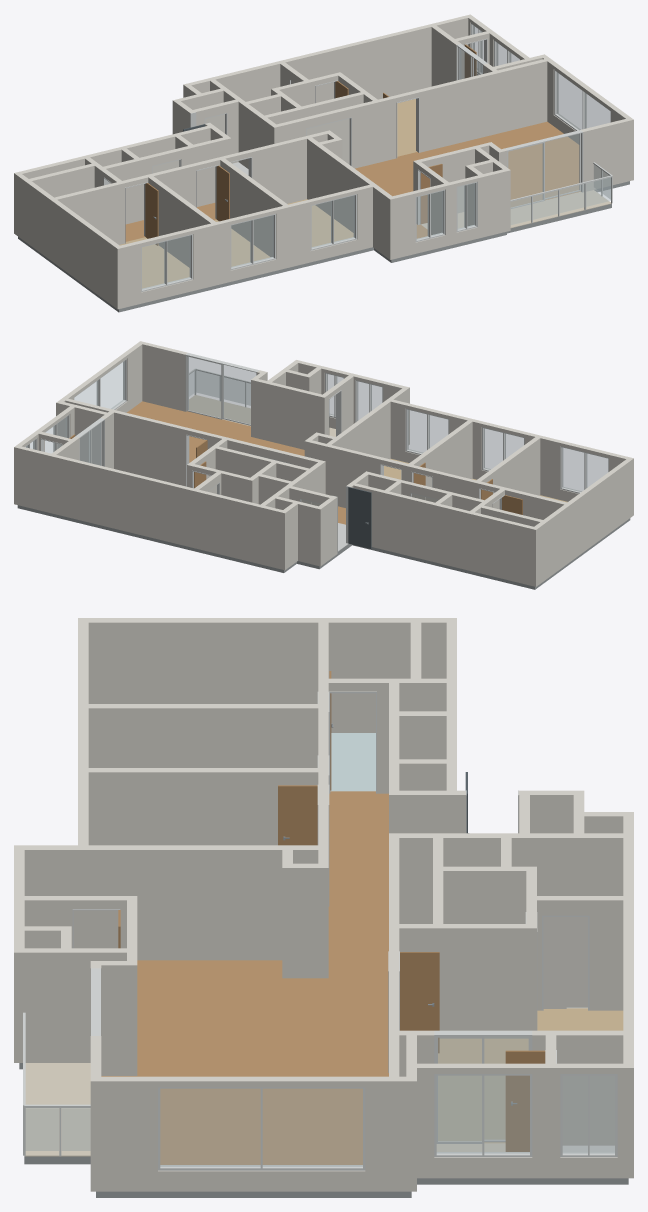
The picture shows the model from 3 angles, top to bottom: view 1: azimuth 30°, elevation 25°; view 2: azimuth 150°, elevation 25°; view 3: azimuth 270°, elevation 25°; orthographic projection. The views are drawn at different scales.
Visible parts, largest first — view 1: wall_32, wall_14, wall_6, floor_living_kitchen_corridor, wall_15, wall_1, wall_13, wall_18, wall_21, wall_10, wall_17, railing_1 (+37 smaller); view 2: wall_6, wall_2, wall_32, wall_1, wall_15, wall_14, wall_12, wall_10, floor_living_kitchen_corridor, wall_18, floor_structural_slab, wall_17 (+34 smaller); view 3: floor_living_kitchen_corridor, wall_1, wall_18, window_4, wall_9, wall_17, wall_16, wall_25, wall_7, wall_31, window_6, floor_master_bedroom_and_dressing (+45 smaller).
Part boxes in pixels (left/top/right/bottom): wall_32: left=271, top=58, right=551, bottom=168; wall_14: left=115, top=183, right=377, bottom=309; wall_6: left=183, top=14, right=472, bottom=102; floor_living_kitchen_corridor: left=125, top=121, right=580, bottom=241; wall_15: left=49, top=130, right=332, bottom=260; wall_1: left=17, top=174, right=119, bottom=306; wall_13: left=387, top=168, right=510, bottom=259; wall_18: left=307, top=137, right=391, bottom=257; wall_21: left=98, top=136, right=231, bottom=224; wall_10: left=496, top=117, right=633, bottom=191; wall_17: left=220, top=159, right=287, bottom=256; railing_1: left=510, top=175, right=612, bottom=224; wall_6: left=14, top=445, right=287, bottom=570; wall_2: left=349, top=482, right=538, bottom=586; wall_32: left=61, top=397, right=325, bottom=494; wall_1: left=534, top=459, right=631, bottom=584; wall_15: left=304, top=439, right=571, bottom=562; wall_14: left=386, top=398, right=633, bottom=516; wall_12: left=251, top=378, right=327, bottom=449; wall_10: left=138, top=341, right=267, bottom=411; floor_living_kitchen_corridor: left=127, top=401, right=345, bottom=524; wall_18: left=327, top=388, right=406, bottom=459; floor_structural_slab: left=17, top=505, right=630, bottom=589; wall_17: left=409, top=420, right=472, bottom=487; floor_living_kitchen_corridor: left=101, top=791, right=388, bottom=1164; wall_1: left=88, top=618, right=446, bottom=732; wall_18: left=24, top=845, right=318, bottom=960; window_4: left=158, top=1087, right=365, bottom=1170; wall_9: left=101, top=1076, right=406, bottom=1191; wall_17: left=88, top=768, right=318, bottom=845; wall_16: left=88, top=704, right=318, bottom=767; wall_25: left=399, top=833, right=623, bottom=923; wall_7: left=417, top=1063, right=623, bottom=1178; wall_31: left=399, top=924, right=526, bottom=1038; window_6: left=434, top=1074, right=532, bottom=1157; floor_master_bedroom_and_dressing: left=438, top=1008, right=623, bottom=1143.
Bounding box in the file's own units: 20.7 × 2.48 × 11.71.
